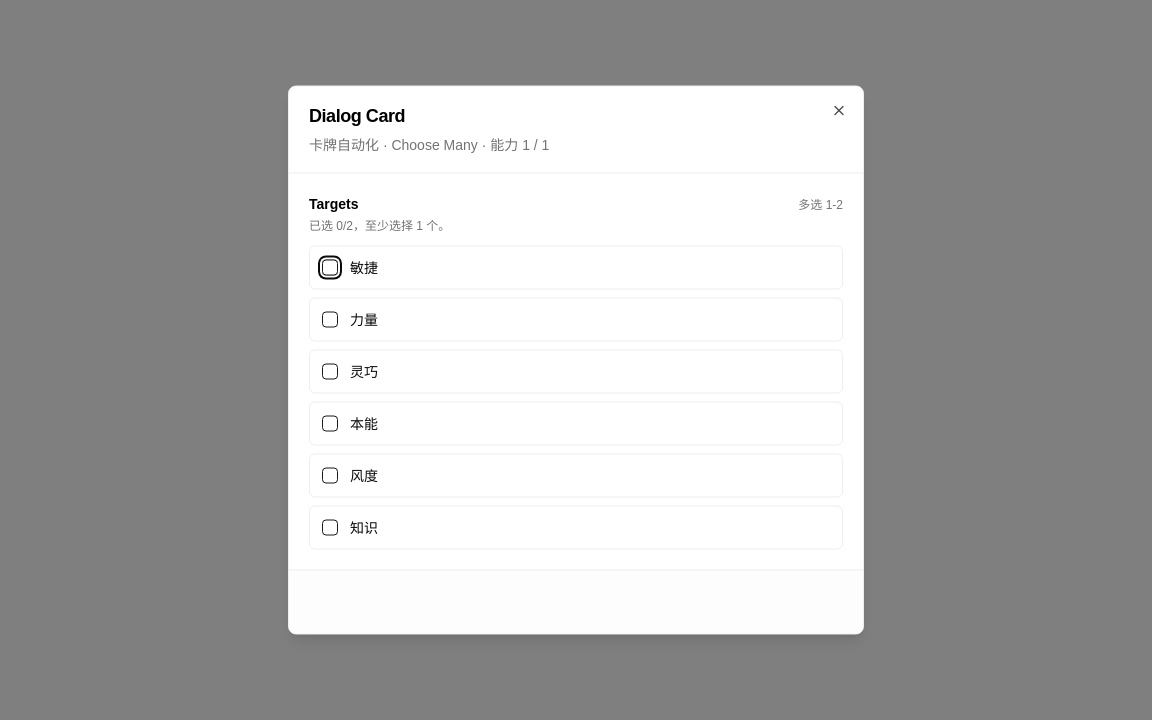
Test: CardAutomationSetupDialog › requires explicit finish for selectMany before save confirmation
The width and height of the screenshot is (1152, 720).
Click the checkbox named "敏捷" at (330, 268), box [322,260,338,276]
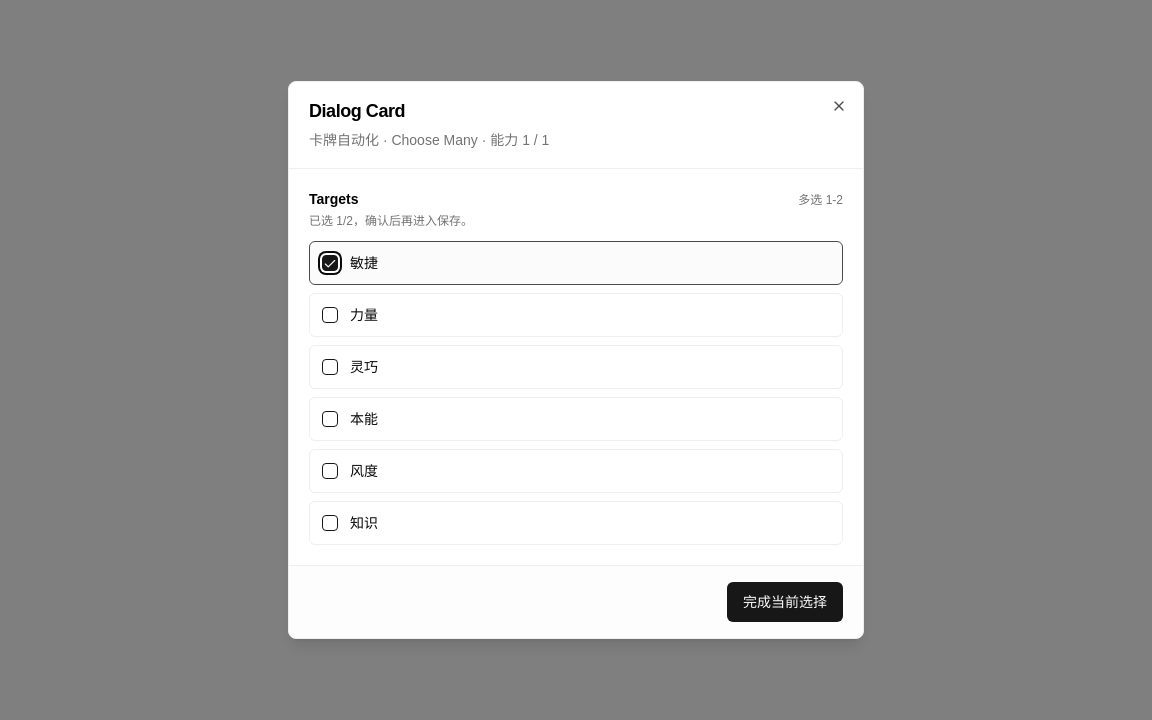
Expected: the button "保存并退出" is not shown
Click the button "完成当前选择" at (785, 602), box [727,582,843,622]
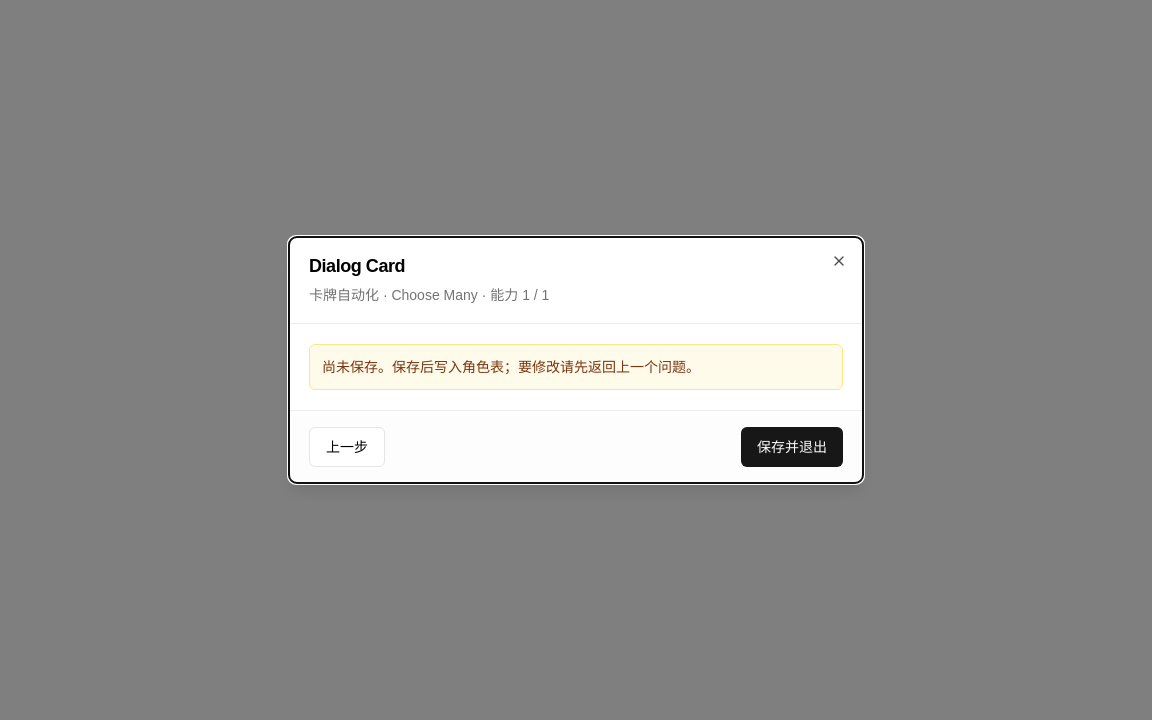
Result: the button "保存并退出" is enabled at [741,427,843,467]
